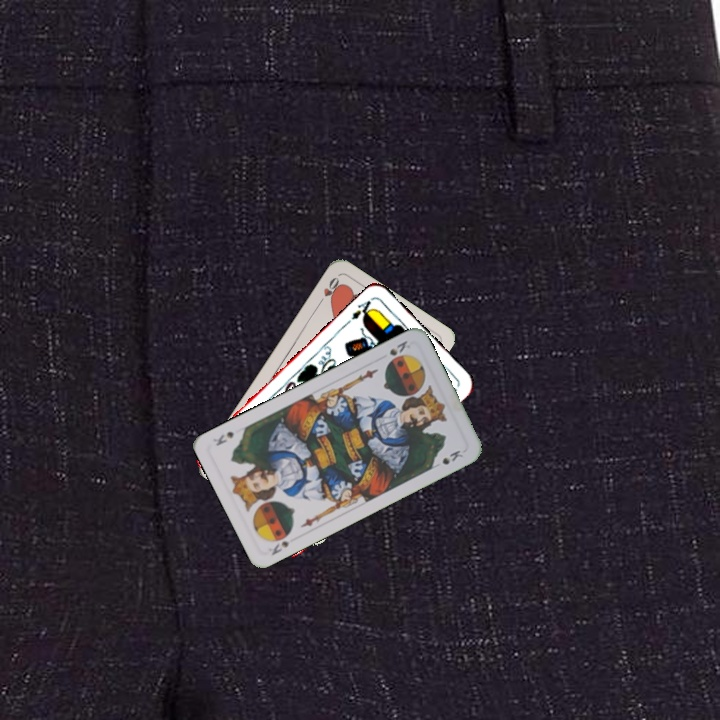EA: (347, 294, 376, 323)
HO: (314, 273, 343, 308)
SK: (264, 537, 292, 558), (385, 336, 410, 358)
